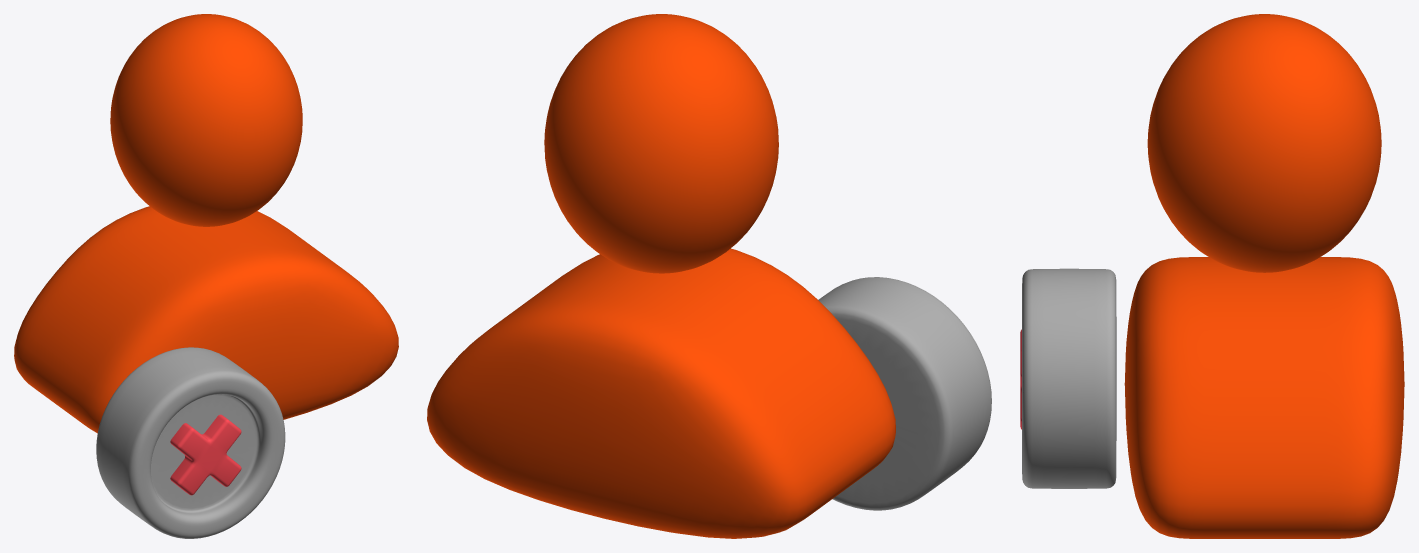
The model's file is user-declined-animated-3d-icon-928037804090.glb.
The picture shows the model from 3 angles, left to right: view 1: azimuth 30°, elevation 25°; view 2: azimuth 150°, elevation 25°; view 3: azimuth 270°, elevation 25°; orthographic projection. The views are drawn at different scales.
Visible parts, largest first — view 1: User.003, Circle.003, Decline; view 2: User.003, Circle.003; view 3: User.003, Circle.003.
Part boxes in pixels (left/top/right/bottom): User.003: left=14, top=14, right=398, bottom=433; Circle.003: left=96, top=347, right=285, bottom=538; Decline: left=170, top=414, right=241, bottom=495; User.003: left=427, top=14, right=895, bottom=538; Circle.003: left=818, top=277, right=991, bottom=510; User.003: left=1124, top=14, right=1404, bottom=538; Circle.003: left=1022, top=268, right=1116, bottom=488.
Size of the model in its own units: 2.04 by 2.5 by 1.7.
